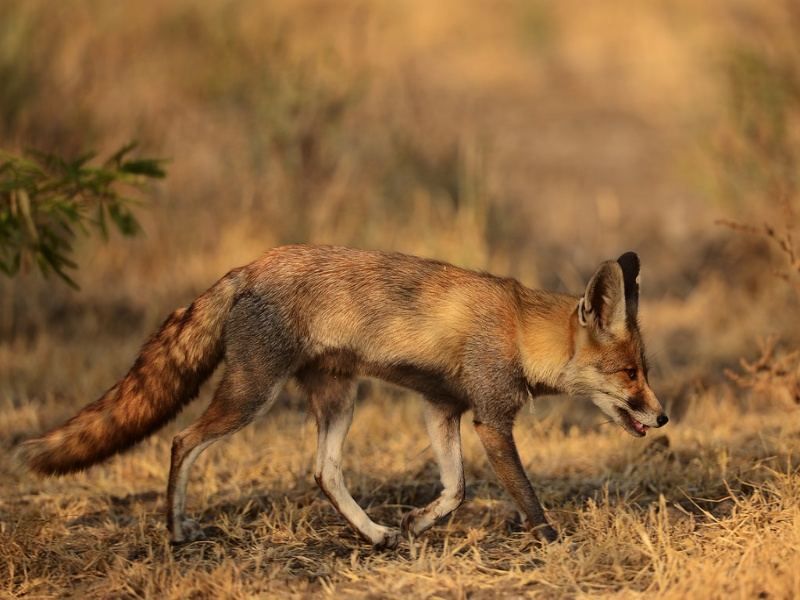fox: (19, 243, 670, 562)
